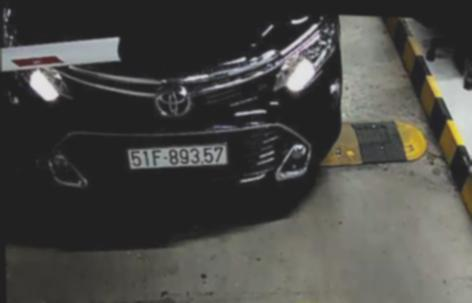License_Plate: (127, 140, 230, 176)
